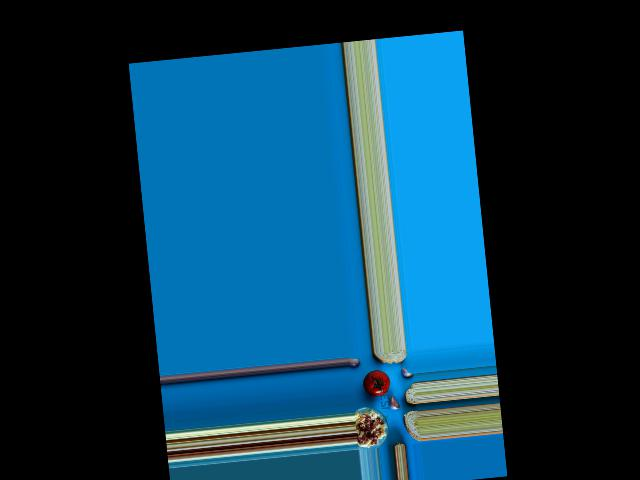tomato: (361, 368, 391, 396)
